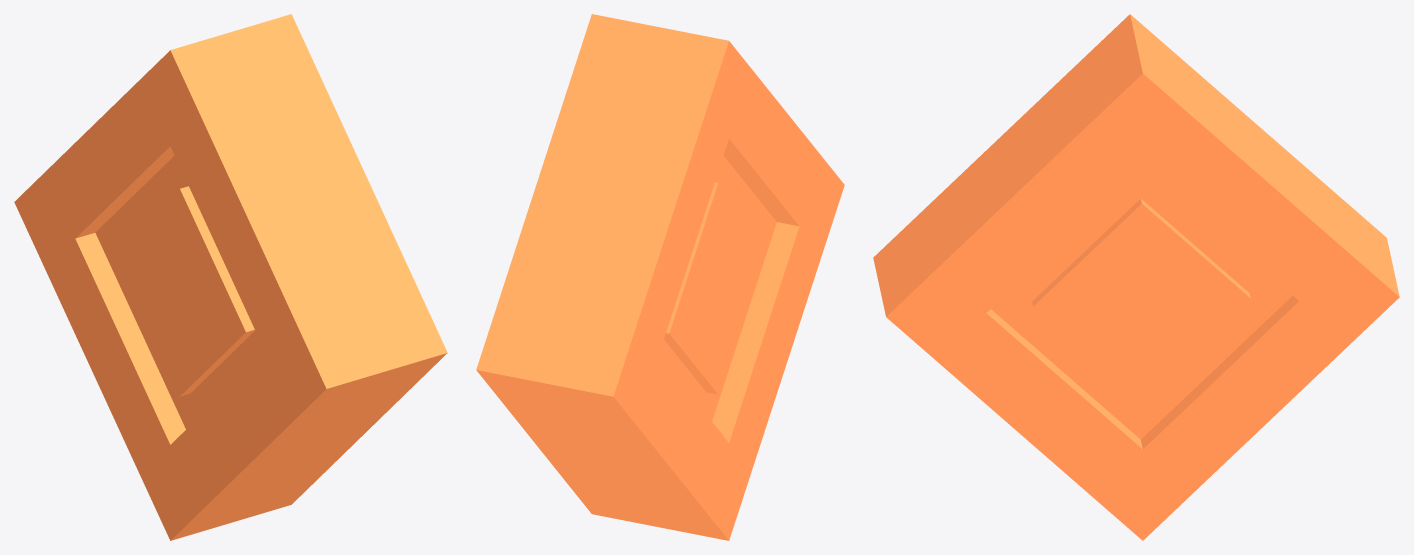
File: Coin.fbx
The picture shows the model from 3 angles, left to right: view 1: azimuth 30°, elevation 25°; view 2: azimuth 150°, elevation 25°; view 3: azimuth 270°, elevation 25°; orthographic projection. The views are drawn at different scales.
Visible parts, largest first — view 1: Coin; view 2: Coin; view 3: Coin.
Boxes of the visible parts, bbox=[...] form: Coin: bbox=[14, 14, 447, 540]; Coin: bbox=[476, 14, 844, 540]; Coin: bbox=[873, 14, 1399, 540].
Size of the model in its own units: 56.1 by 154 by 157.
